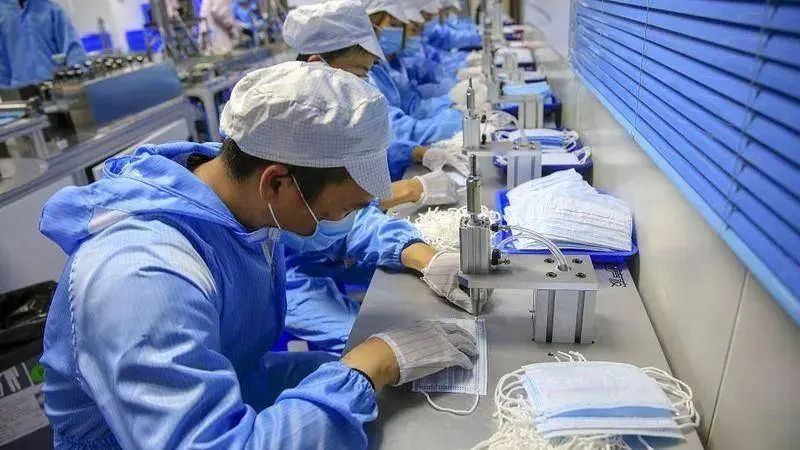withmask: (214, 61, 400, 284)
